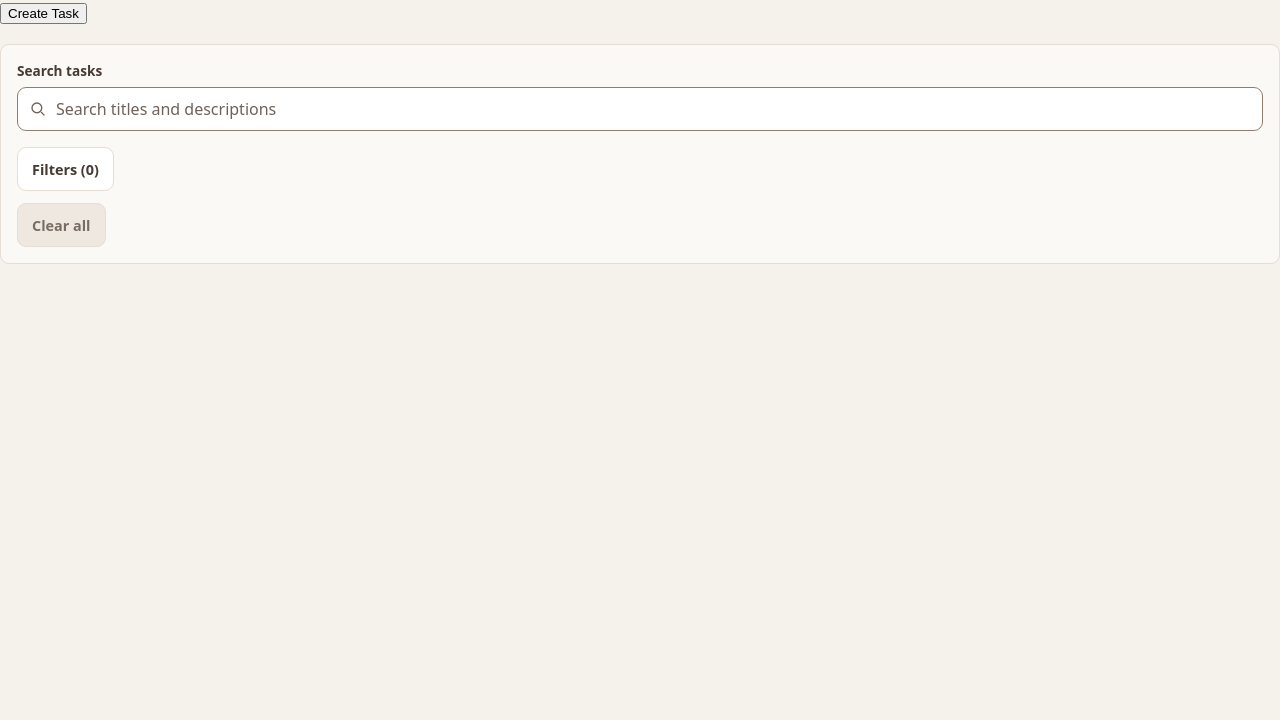
Test: applies mobile filters immediately, keeps them on Done/Escape, and restores disclosure focus
The image size is (1280, 720).
Step 1. Click the button "Filters (0)" → (65,169), box [17,147,114,191]
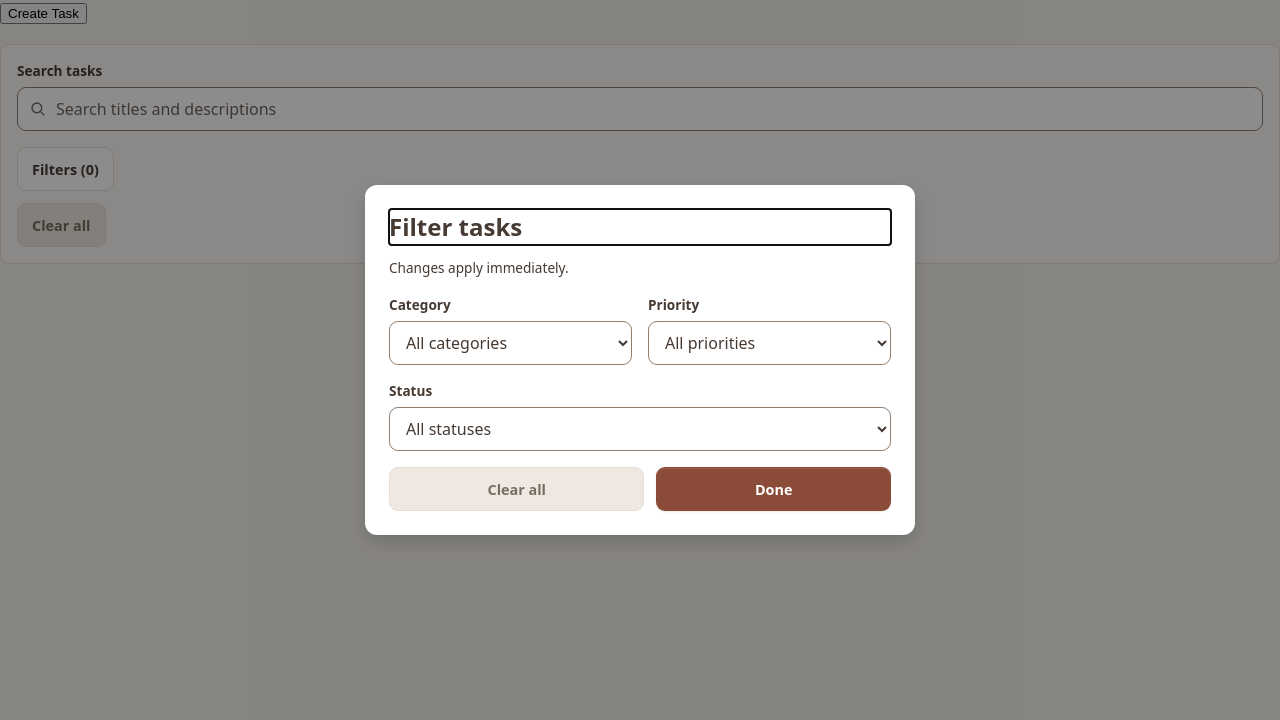
Check: the button "Filters (0)" is expanded, box [17,147,114,191]
Step 2. Select "High" in the dropdown labelled "Priority" → (770,343), box [648,321,891,365]
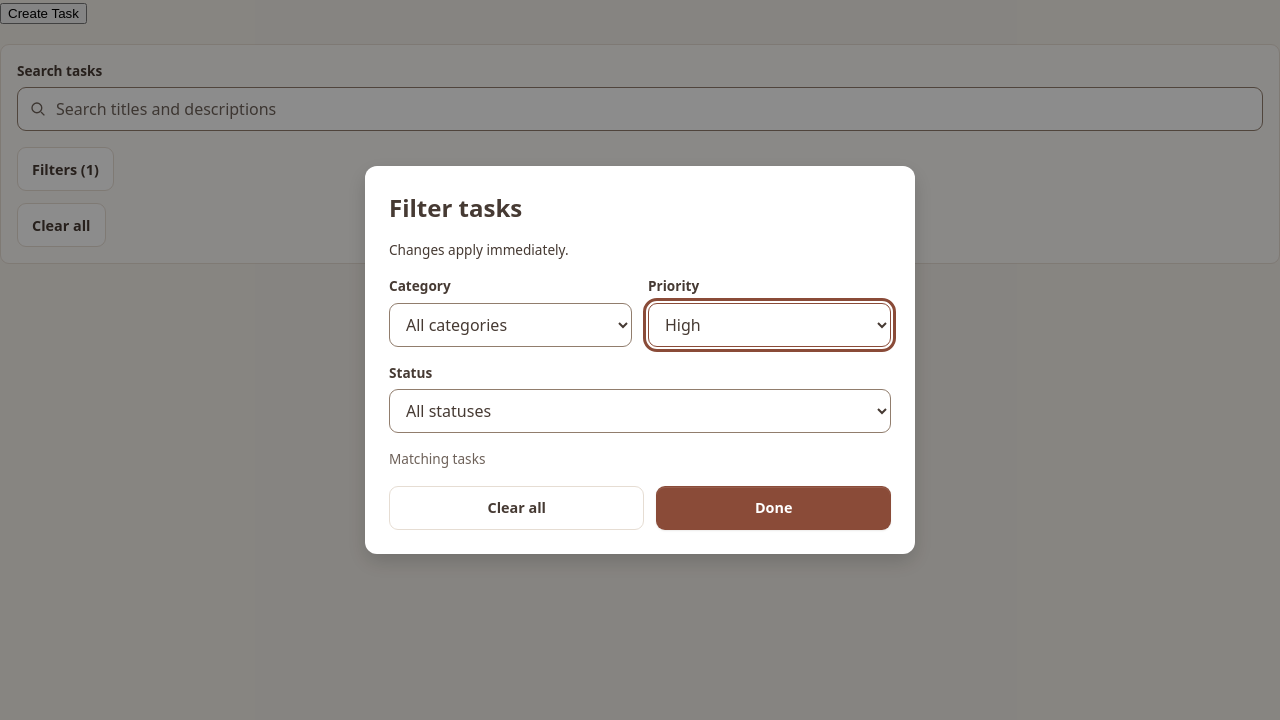
Check: the text "Matching tasks" is shown once, box [389,449,485,468]
Step 3. Click the button "Done" → (774,508), box [656,486,891,530]
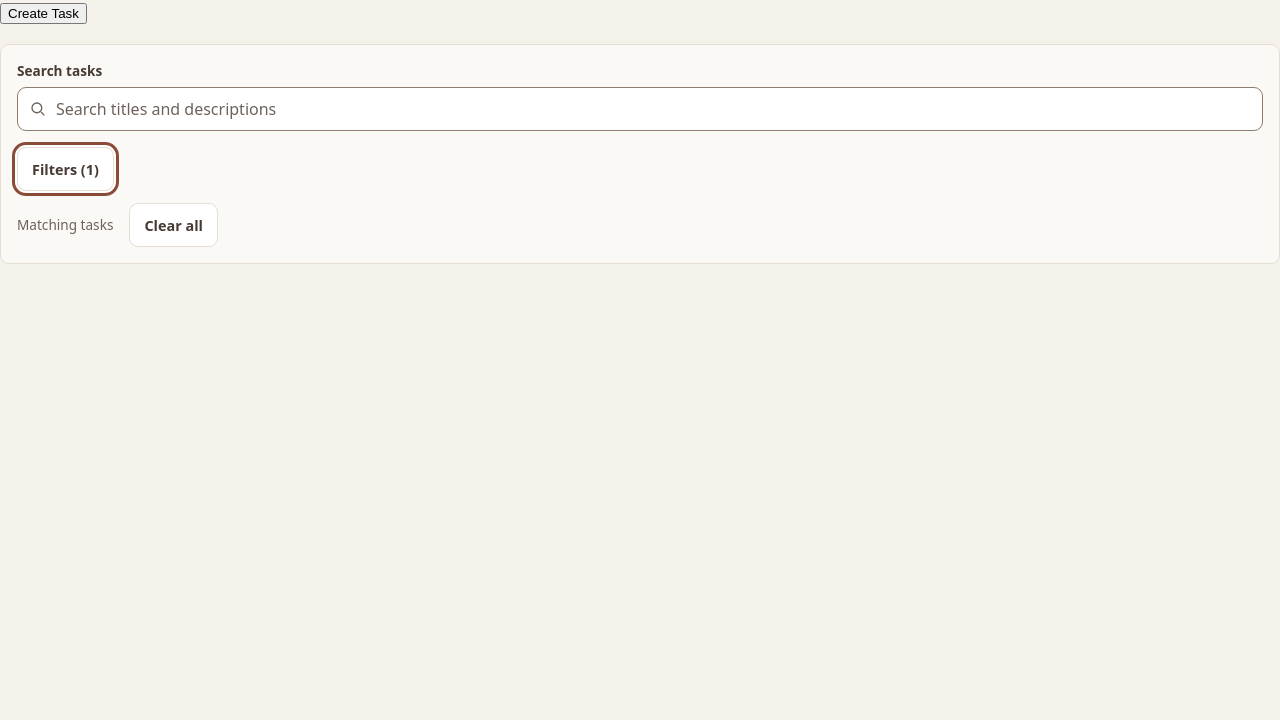
Step 4. Press Enter
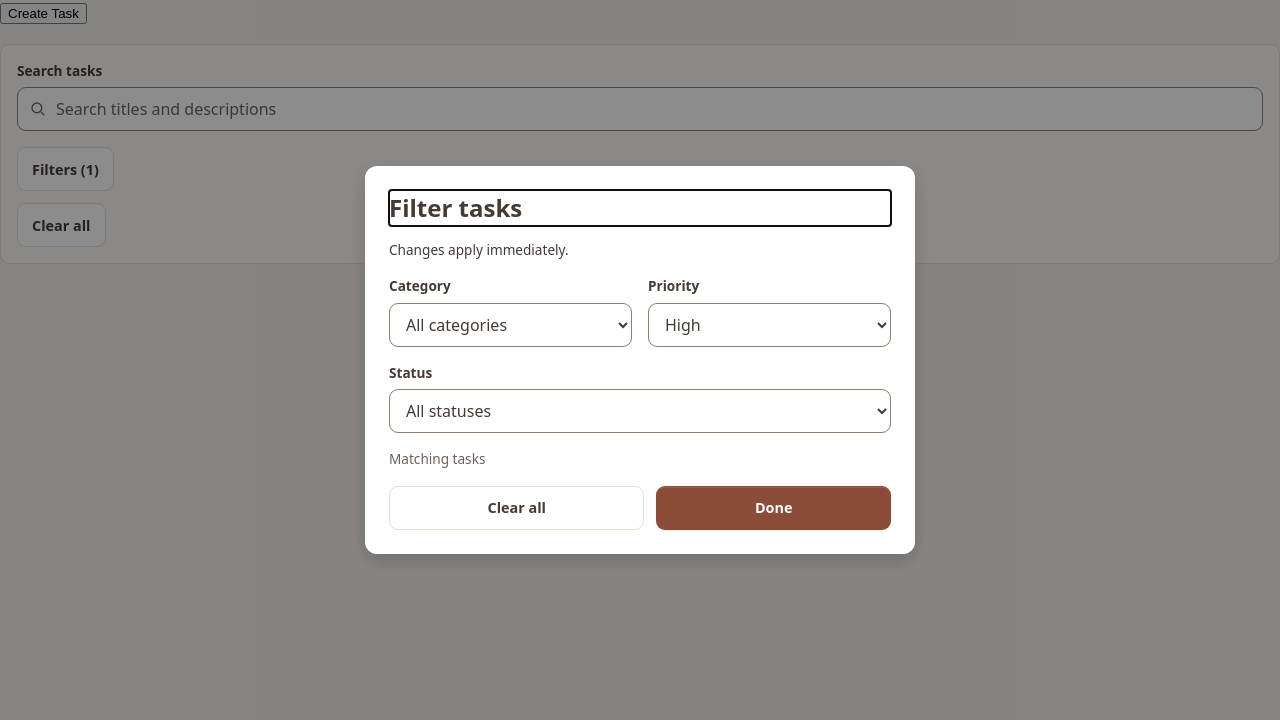
Check: the element with class "toolbar-controls" is shown, box [0,44,1279,264]
Check: the dropdown labelled "Priority" shows "High", box [648,303,891,347]
Step 5. Press Escape
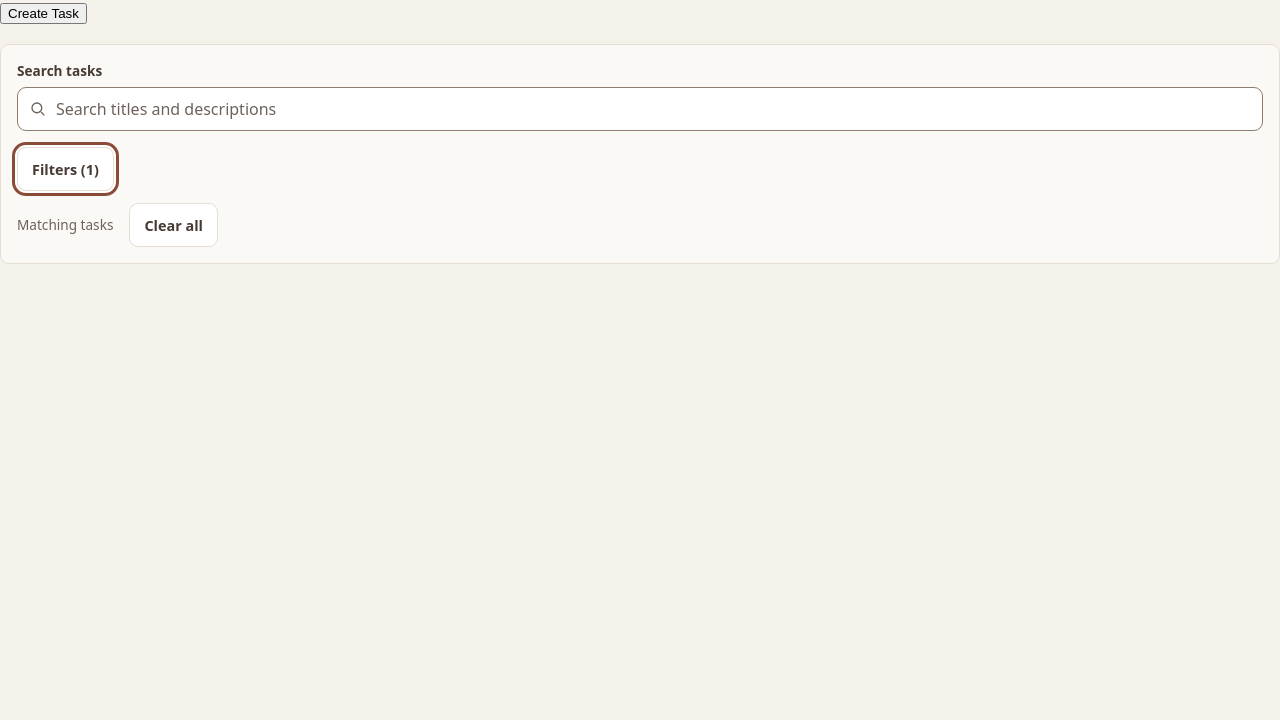
Check: the dialog is gone
